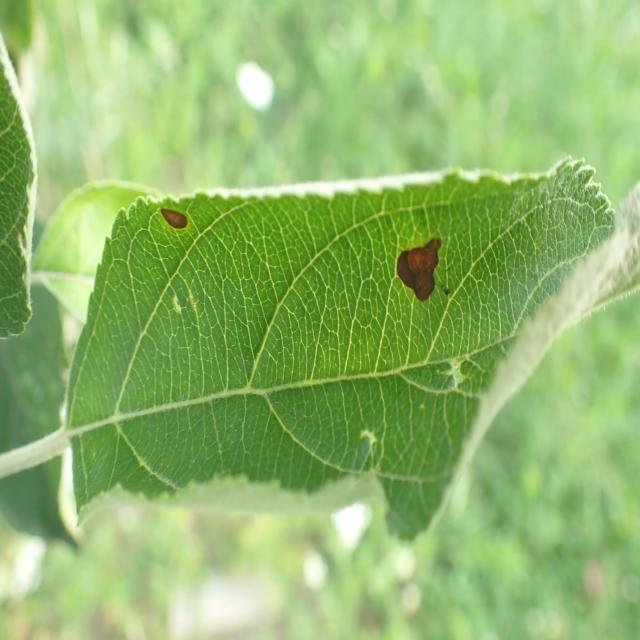Black Rot: (377, 228, 464, 318), (146, 175, 191, 270)
